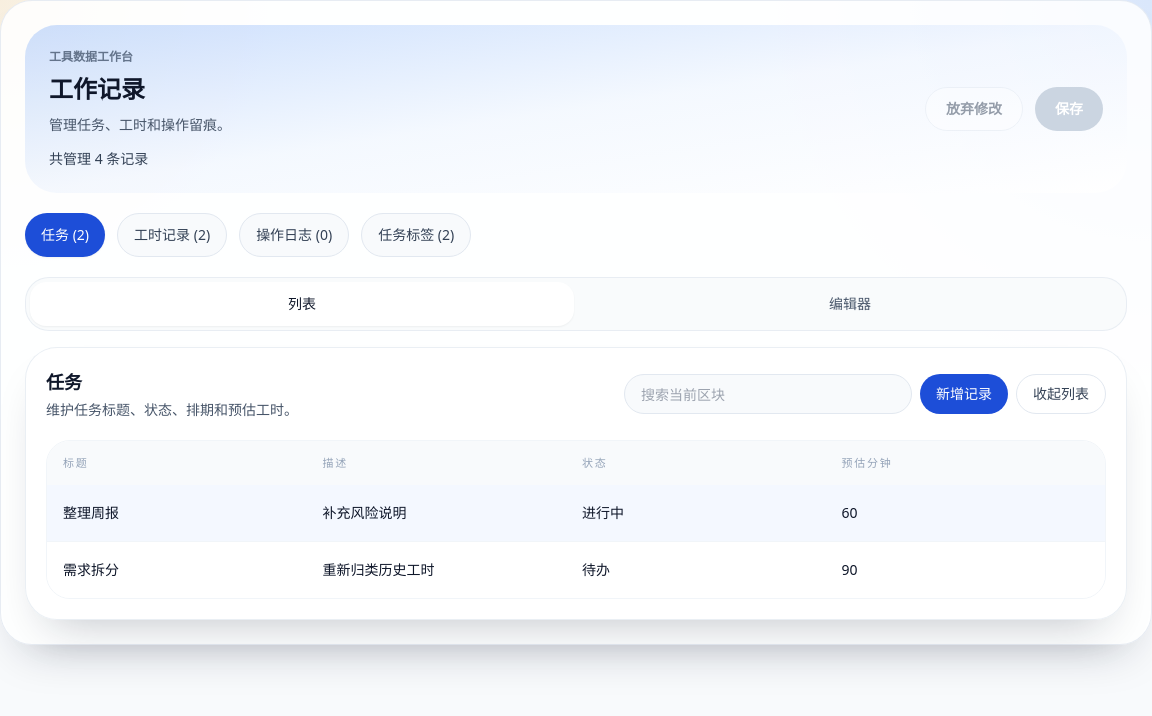
Test: ToolWorkspace › 工时记录区提供柱状图模态入口，支持查看按日期聚合的任务工时
Click the button "工时记录 (2)" at (172, 235), box [117,213,227,257]
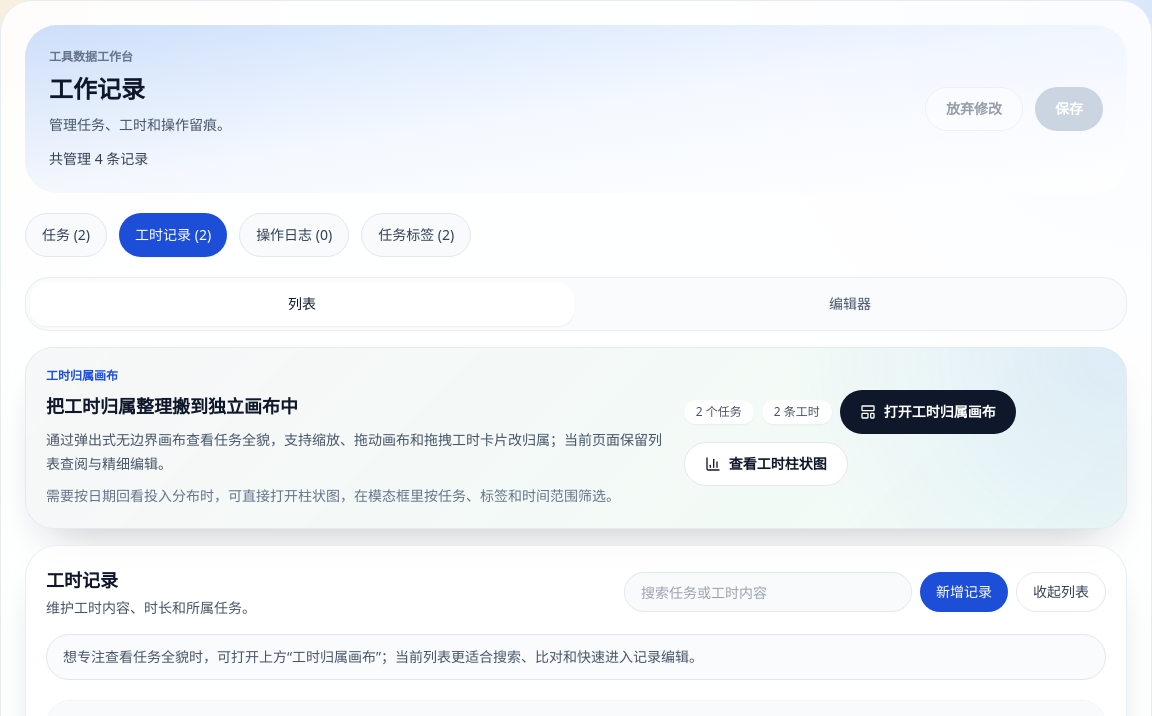
Click the button "查看工时柱状图" at (766, 464), box [684,442,848,486]
(page scrolled)
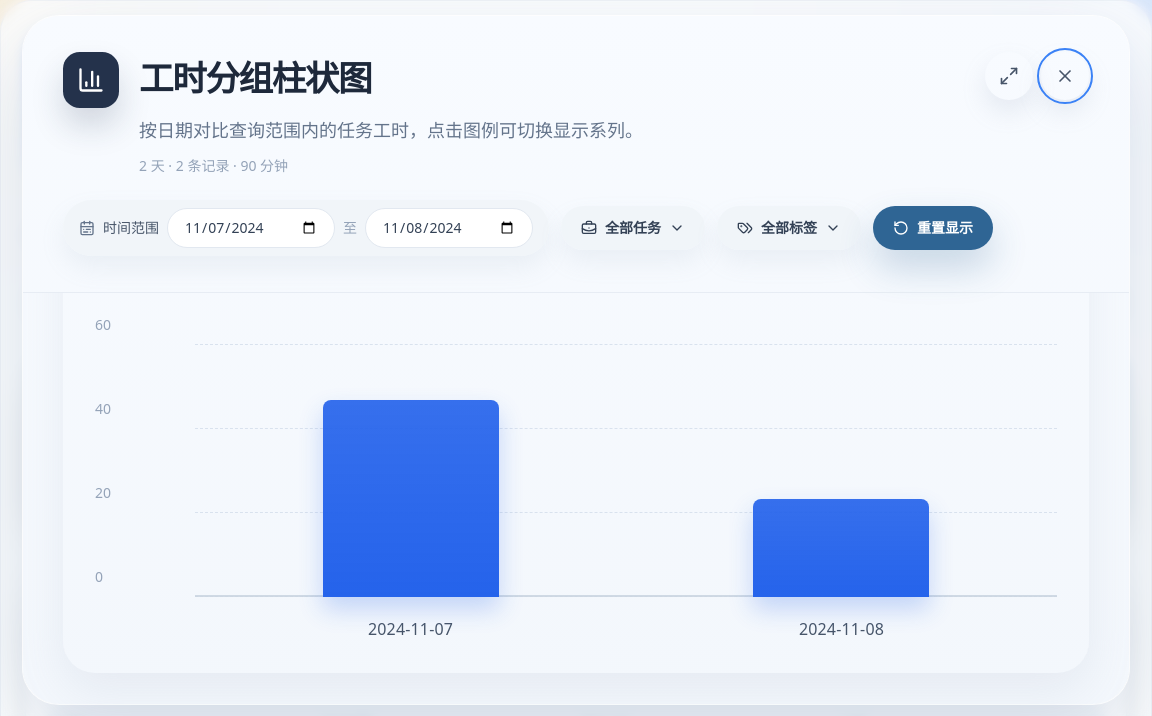
Expected: the heading "工时分组柱状图" is shown, [139,54,371,101]
Expected: the text "按日期对比查询范围内的任务工时，点击图例可切换显示系列。" is shown, [139,116,643,144]
Expected: the element named "工时分组柱状图画布" is shown, [63,293,1089,673]
